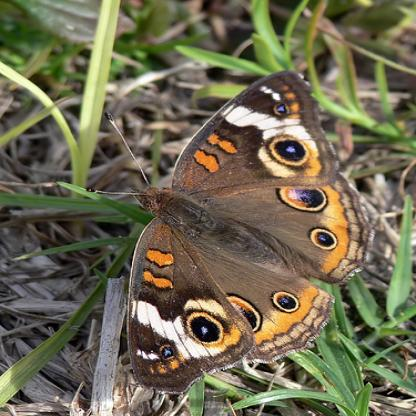Common Buckeye: (81, 40, 398, 406)
